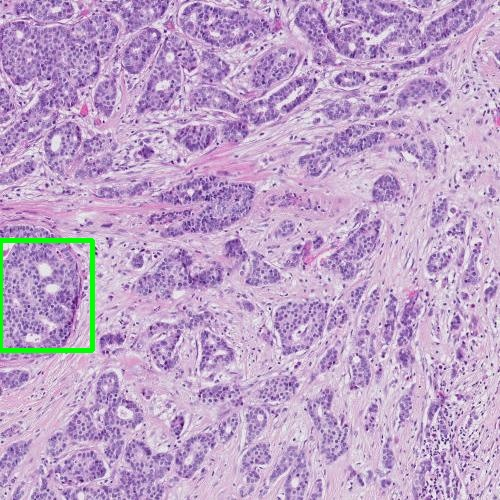DCIS: (0, 240, 92, 350)
